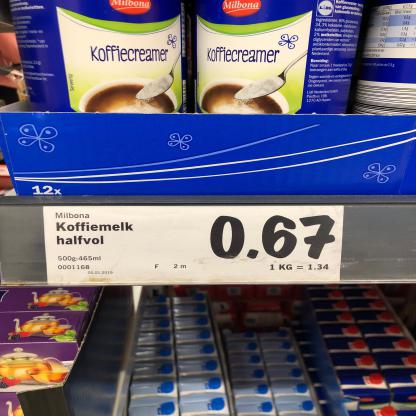prtg: (44, 206, 346, 285)
